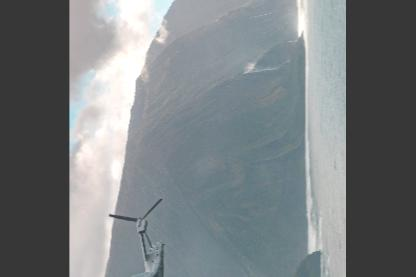Tornado: (108, 198, 175, 276)
